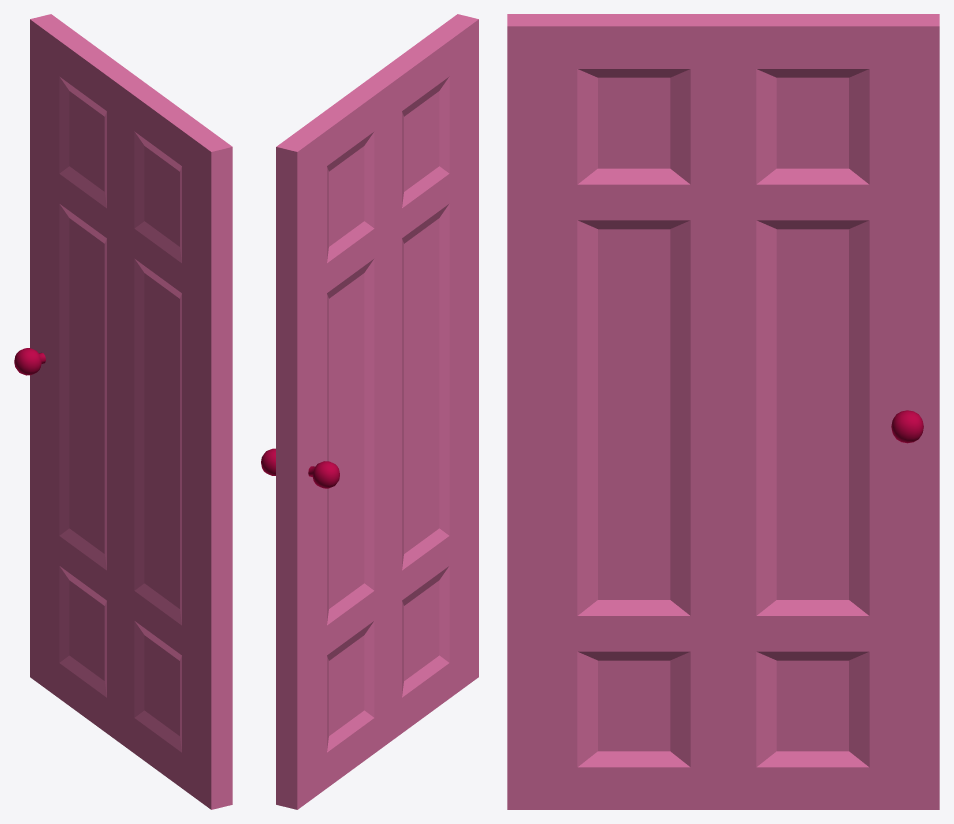
File: Door.fbx
3 renders of one model, left to right at view 1: azimuth 30°, elevation 25°; view 2: azimuth 150°, elevation 25°; view 3: azimuth 270°, elevation 25°, orthographic. The views are drawn at different scales.
Visible parts, largest first — view 1: Door, Doorknob.004; view 2: Door, Doorknob.004; view 3: Door, Doorknob.
Boxes of the visible parts, bbox=[...] form: Door: bbox=[30, 14, 232, 809]; Doorknob.004: bbox=[14, 348, 45, 375]; Door: bbox=[276, 14, 478, 809]; Doorknob.004: bbox=[308, 461, 339, 488]; Door: bbox=[507, 14, 939, 809]; Doorknob: bbox=[891, 410, 923, 443].
Bounding box in the file's own units: 23.93 × 200 × 100.
